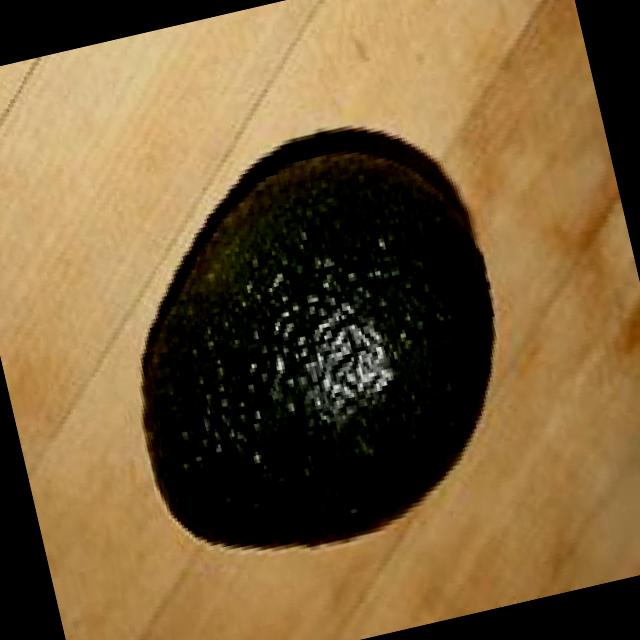avocado: (82, 107, 540, 589)
